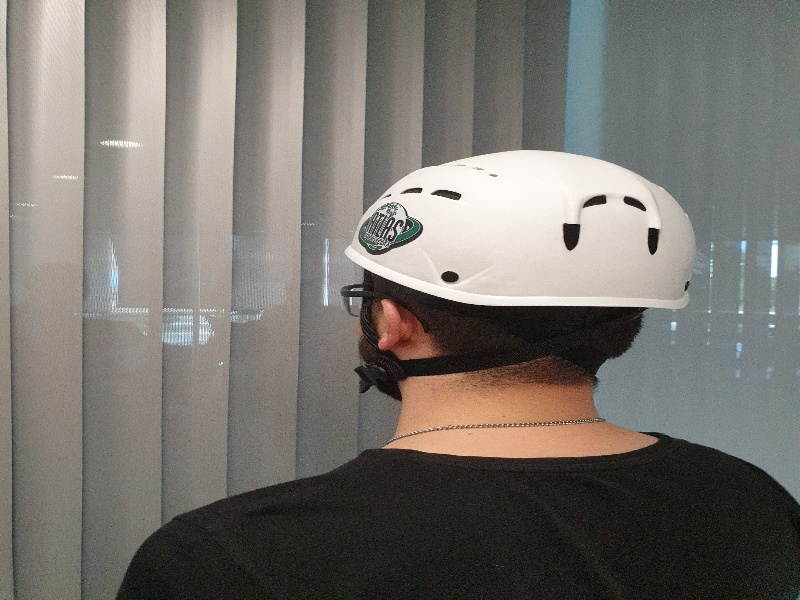Baret: (344, 150, 698, 312)
